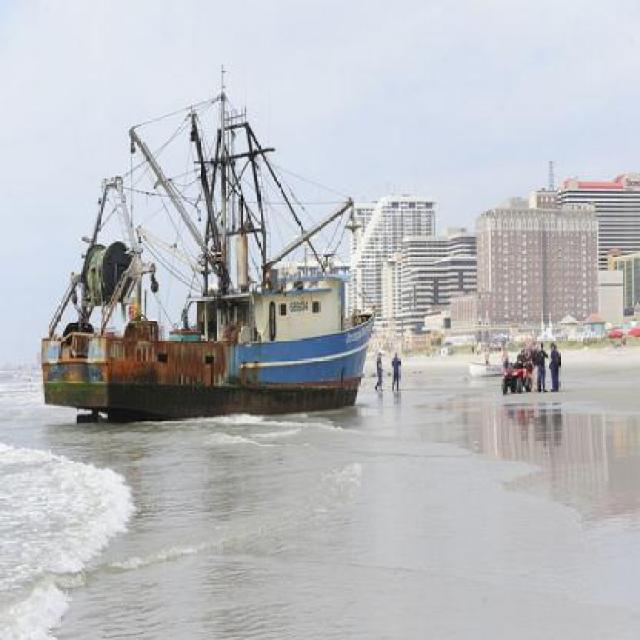ship: (24, 42, 376, 422)
